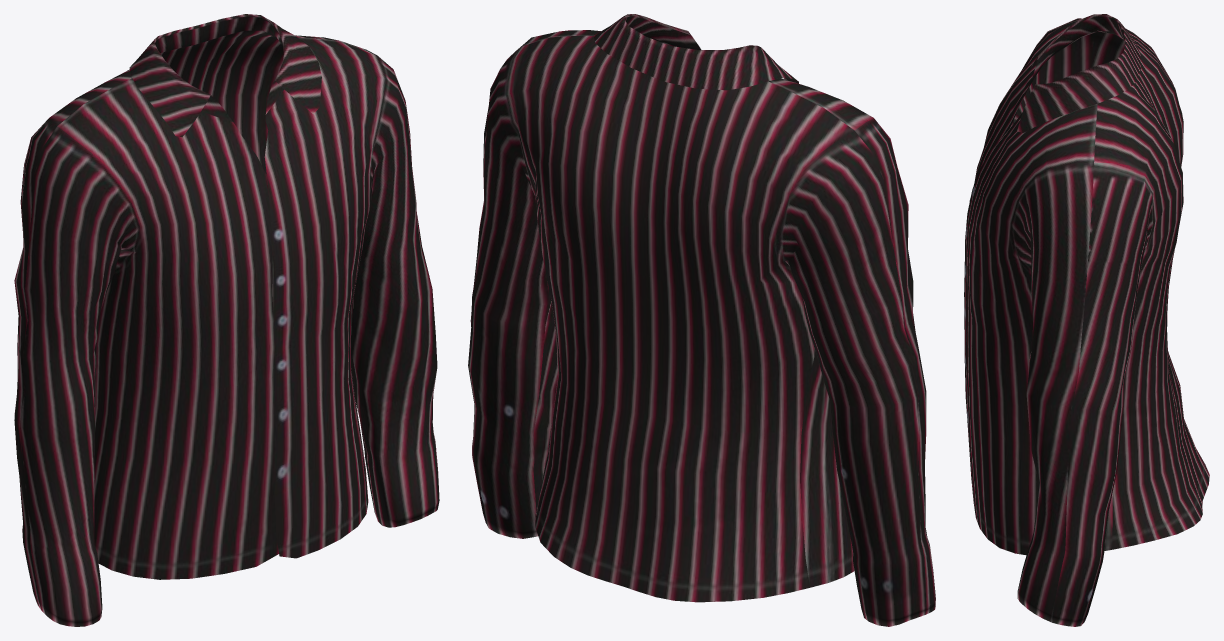
Rendered from top_striped_shirt.gltf.
The picture shows the model from 3 angles, left to right: view 1: azimuth 30°, elevation 25°; view 2: azimuth 150°, elevation 25°; view 3: azimuth 270°, elevation 25°; orthographic projection. The views are drawn at different scales.
Parts seen in each view (by area): view 1: top_striped_shirt; view 2: top_striped_shirt; view 3: top_striped_shirt.
Part boxes in pixels (box(x1,y1,x2,y2)): top_striped_shirt: box(14, 14, 439, 626); top_striped_shirt: box(468, 14, 935, 626); top_striped_shirt: box(964, 14, 1209, 626).
Size of the model in its own units: 0.5466 by 0.6636 by 0.2932.
Materials: 1 (1 with a texture image).
